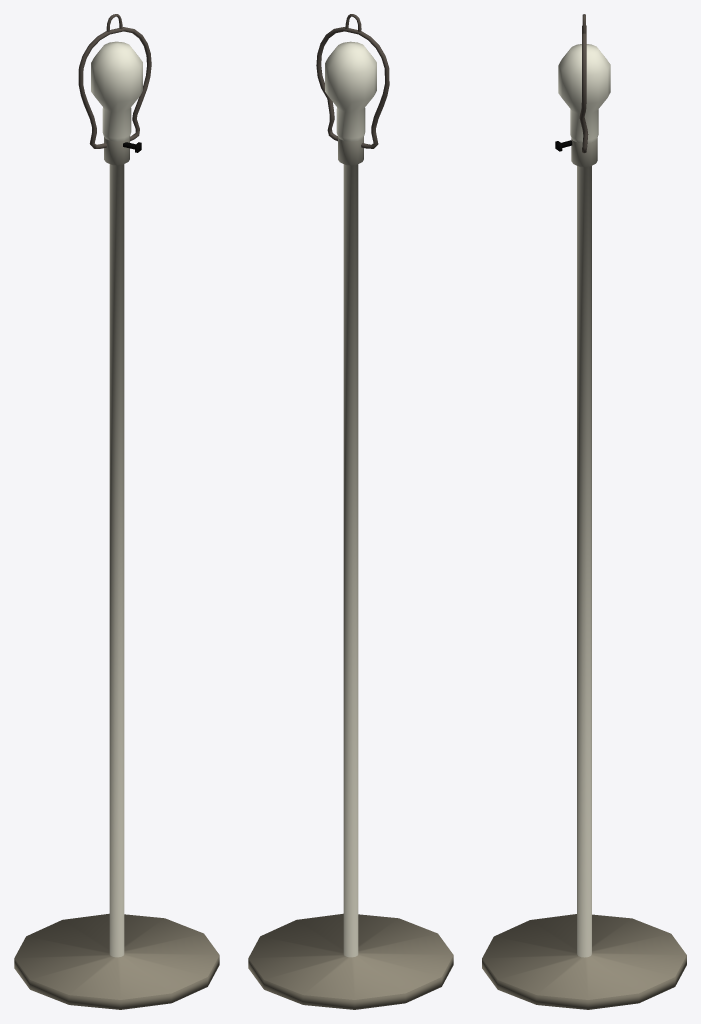
Rendered from furnishings-lightsources-bulblamp_v1.glb.
The picture shows the model from 3 angles, left to right: view 1: azimuth 30°, elevation 25°; view 2: azimuth 150°, elevation 25°; view 3: azimuth 270°, elevation 25°; orthographic projection.
Parts seen in each view (by area): view 1: BulbLamp_v1_base, BulbLamp_v1_light; view 2: BulbLamp_v1_base, BulbLamp_v1_light; view 3: BulbLamp_v1_base, BulbLamp_v1_light.
Boxes of the visible parts, <box> form: BulbLamp_v1_base: <box>14,14,219,1009</box>; BulbLamp_v1_light: <box>91,41,142,141</box>; BulbLamp_v1_base: <box>248,14,453,1009</box>; BulbLamp_v1_light: <box>325,41,376,141</box>; BulbLamp_v1_base: <box>482,14,686,1009</box>; BulbLamp_v1_light: <box>558,44,610,143</box>.
Bounding box in the file's own units: 0.3245 × 1.66 × 0.3245.
